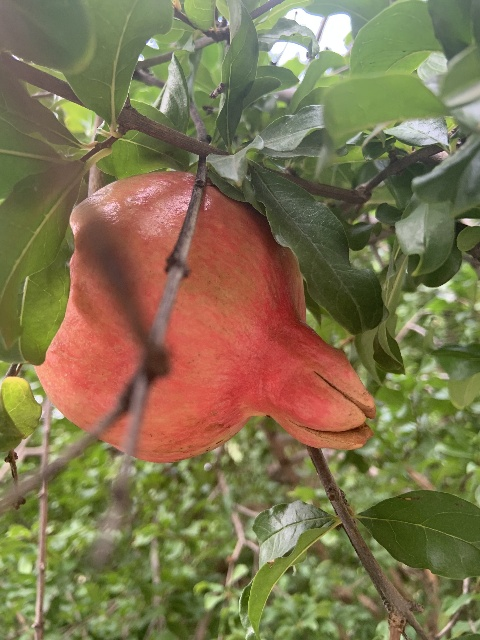ripe: (31, 172, 377, 461)
